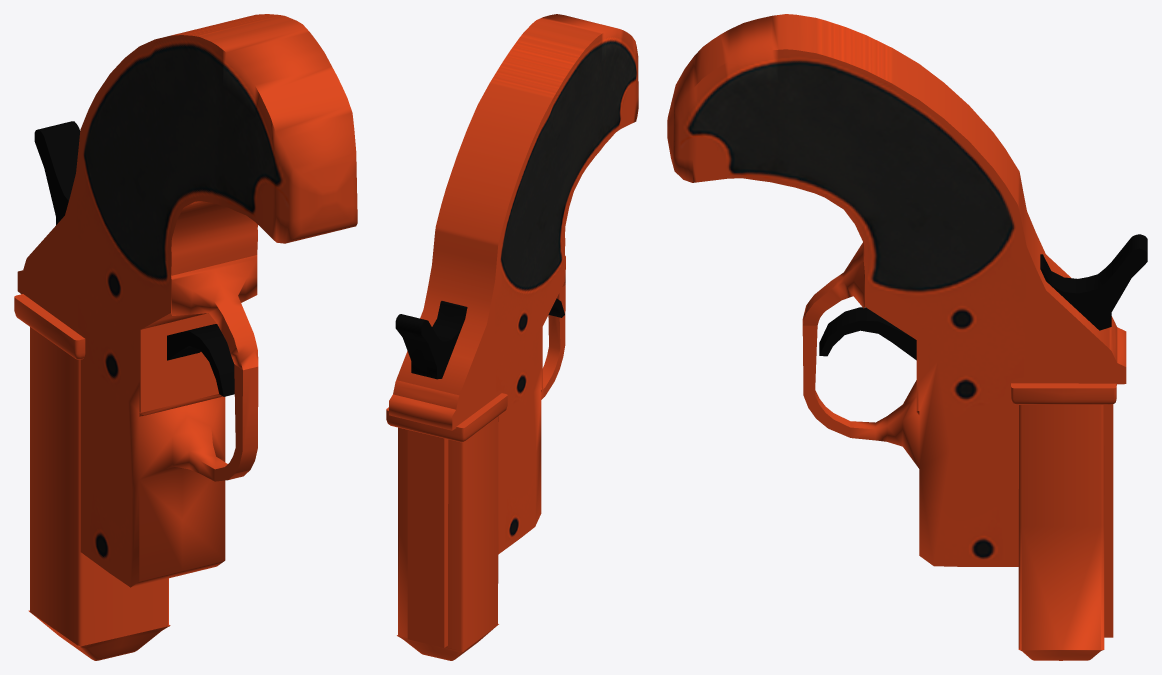
The model's file is FlareGun.fbx.
The picture shows the model from 3 angles, left to right: view 1: azimuth 30°, elevation 25°; view 2: azimuth 150°, elevation 25°; view 3: azimuth 270°, elevation 25°; orthographic projection. The views are drawn at different scales.
Visible parts, largest first — view 1: Cube; view 2: Cube; view 3: Cube.
Part boxes in pixels (x1,y1,x2,y2): Cube: (14, 14, 357, 660); Cube: (386, 14, 638, 660); Cube: (667, 14, 1147, 660).
Bounding box in the file's own units: 0.0209 × 0.1343 × 0.0939.
